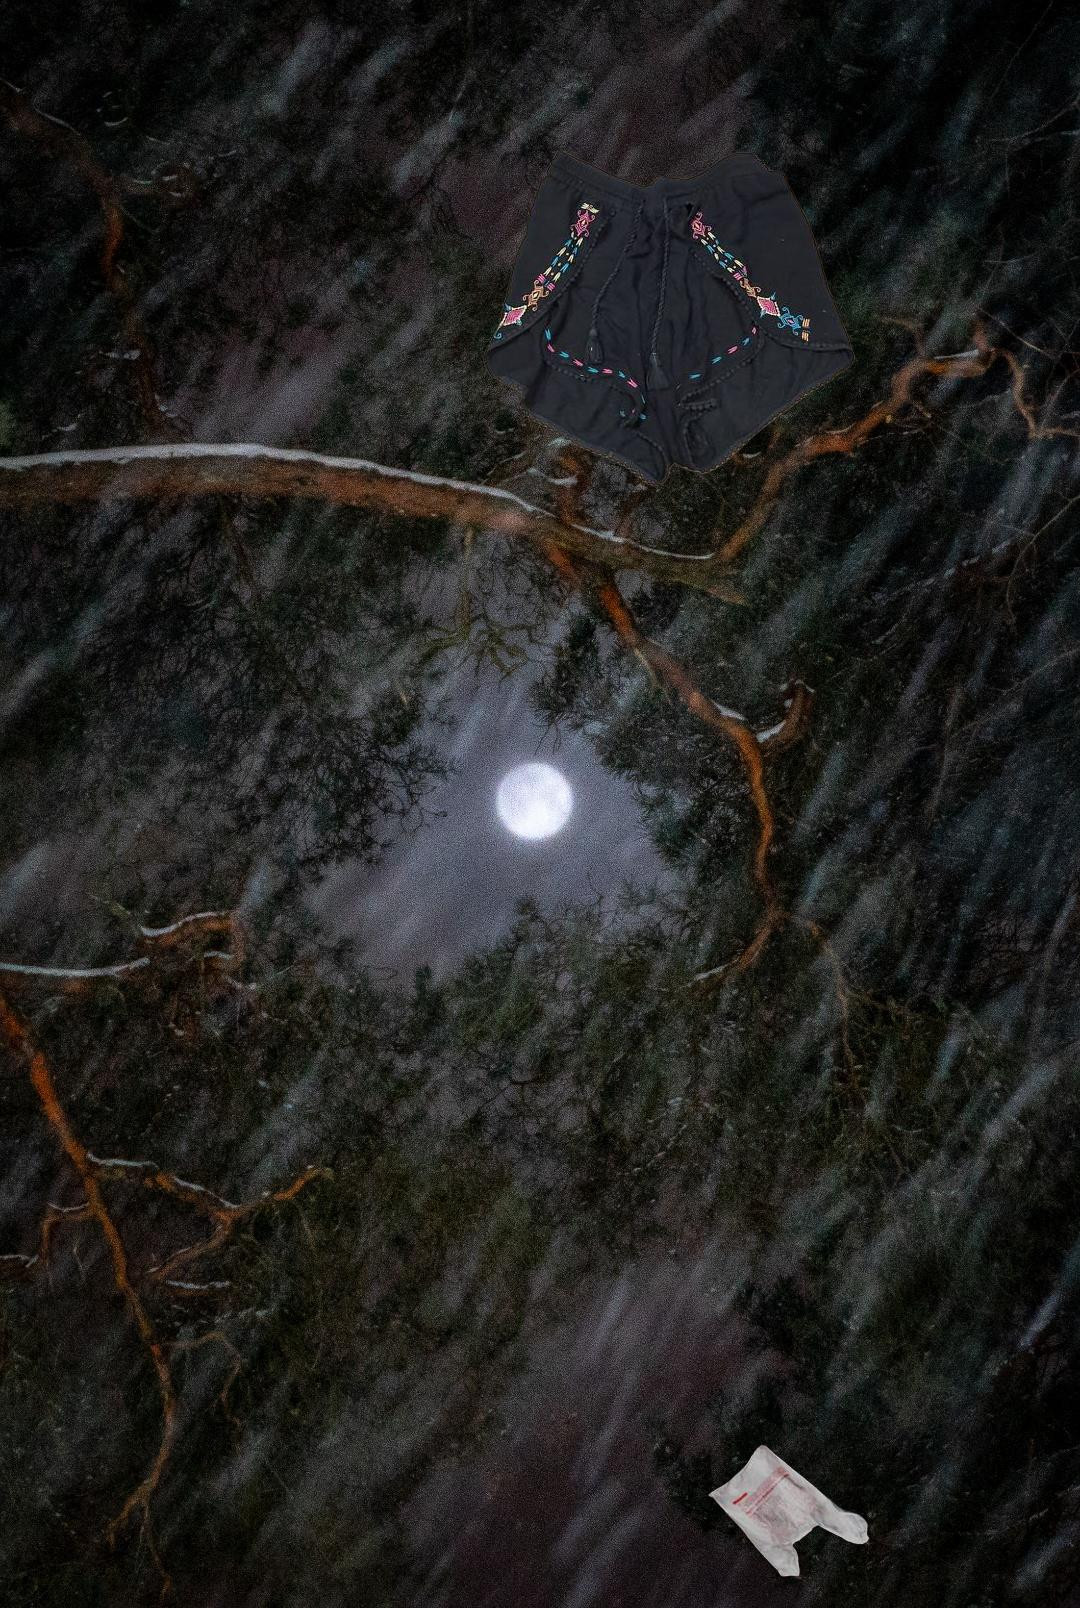clothes: (480, 145, 858, 493)
plastic-bag: (705, 1442, 871, 1580)
